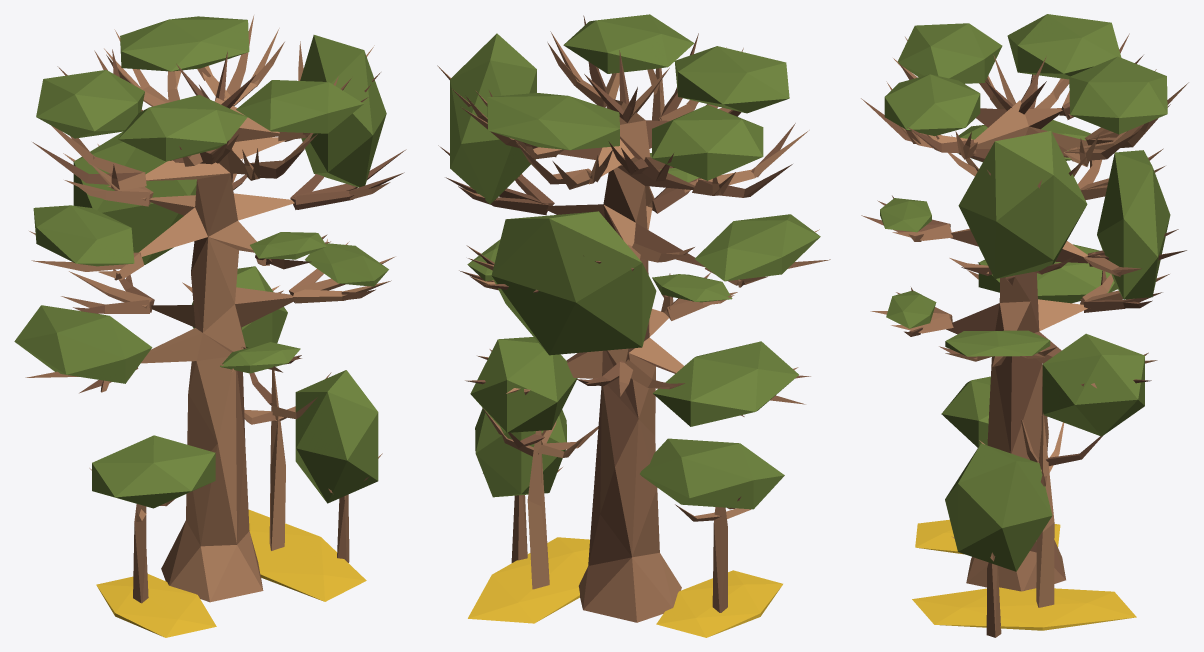
The model's file is giant_araucaria_bloom_far.glb.
3 renders of one model, left to right at view 1: azimuth 30°, elevation 25°; view 2: azimuth 150°, elevation 25°; view 3: azimuth 270°, elevation 25°, orthographic. The views are drawn at different scales.
Parts seen in each view (by area): view 1: giant_araucaria_bloom_far; view 2: giant_araucaria_bloom_far; view 3: giant_araucaria_bloom_far.
Boxes of the visible parts, x1,y1,x2,y2 form: giant_araucaria_bloom_far: (14, 16, 406, 637); giant_araucaria_bloom_far: (437, 14, 830, 637); giant_araucaria_bloom_far: (861, 14, 1188, 637).
Size of the model in its own units: 26.54 by 34.65 by 20.21.
